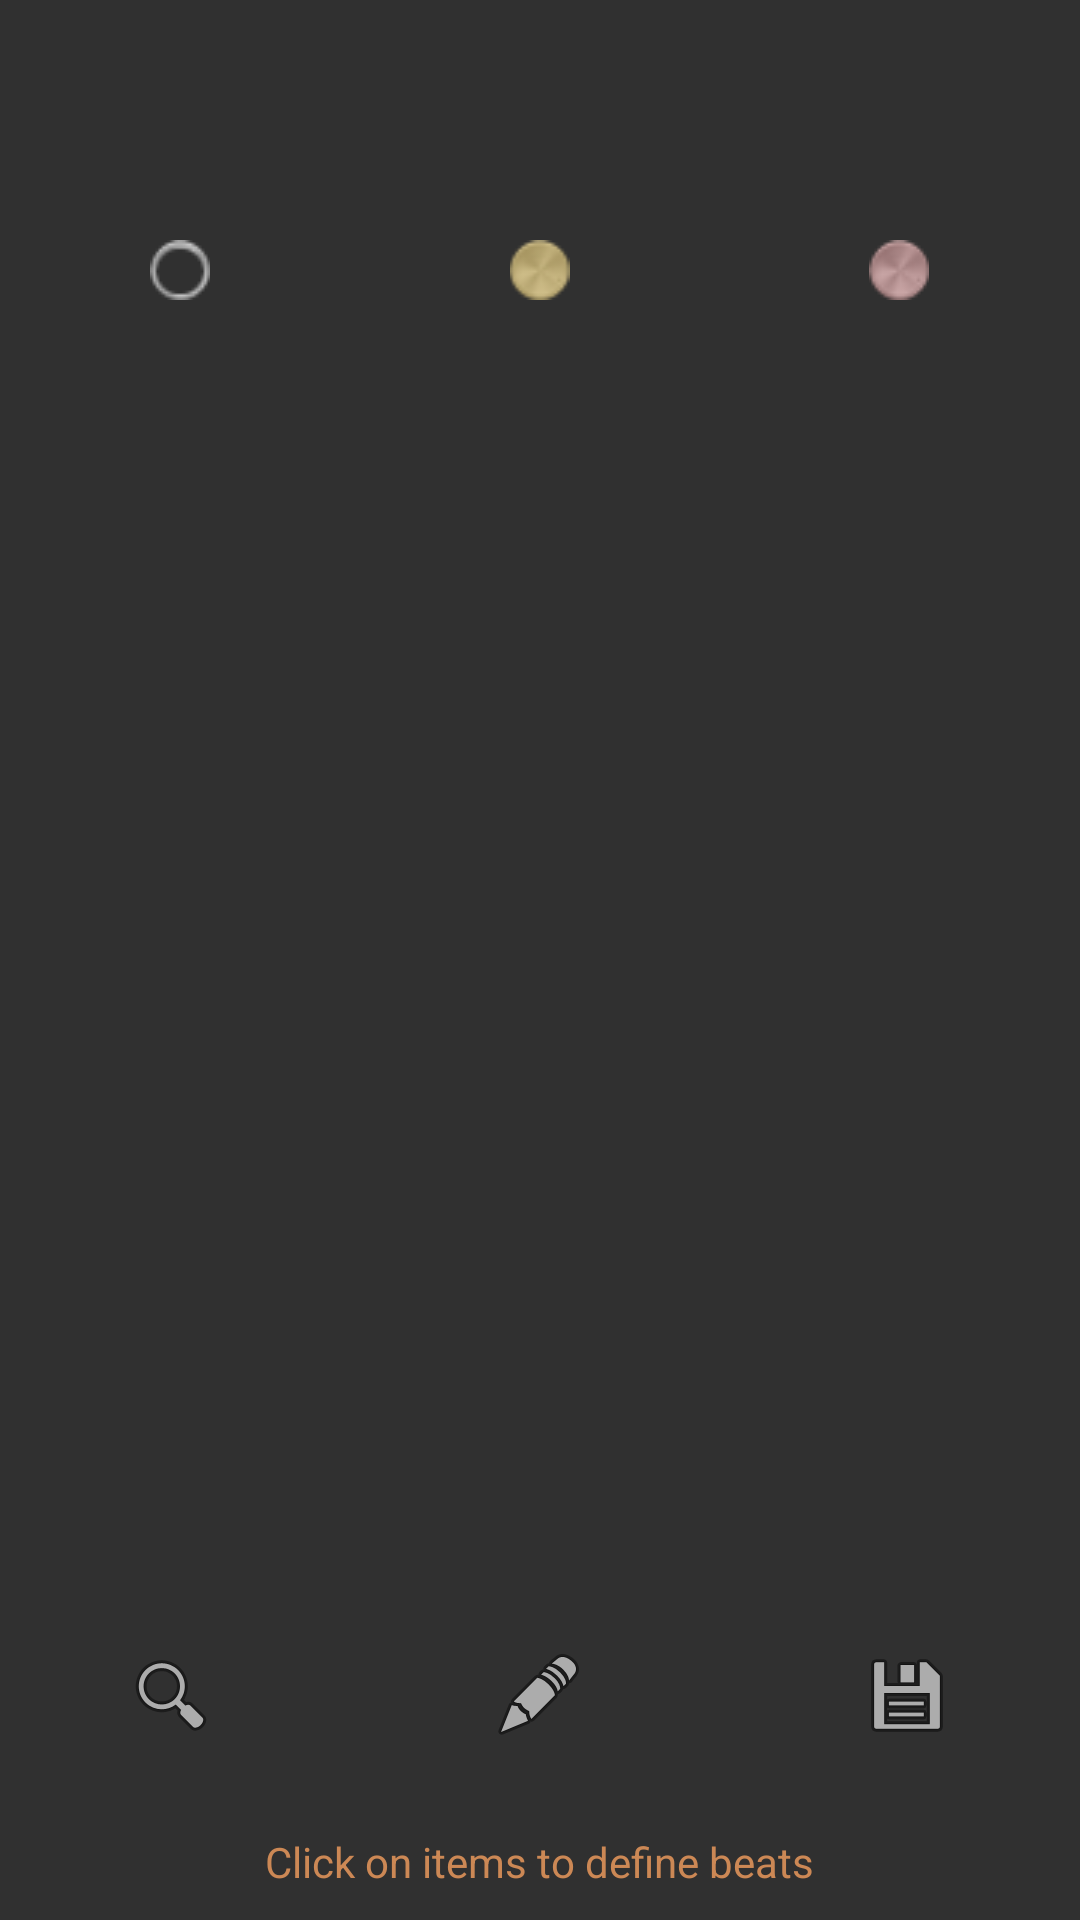

Icons on this 1080 × 1920 Android screen, each with the point to tap as (x,y):
edit: (538,1694)
knob: (180,270), (540,270), (899,270)
save: (907,1695)
search: (171,1695)
